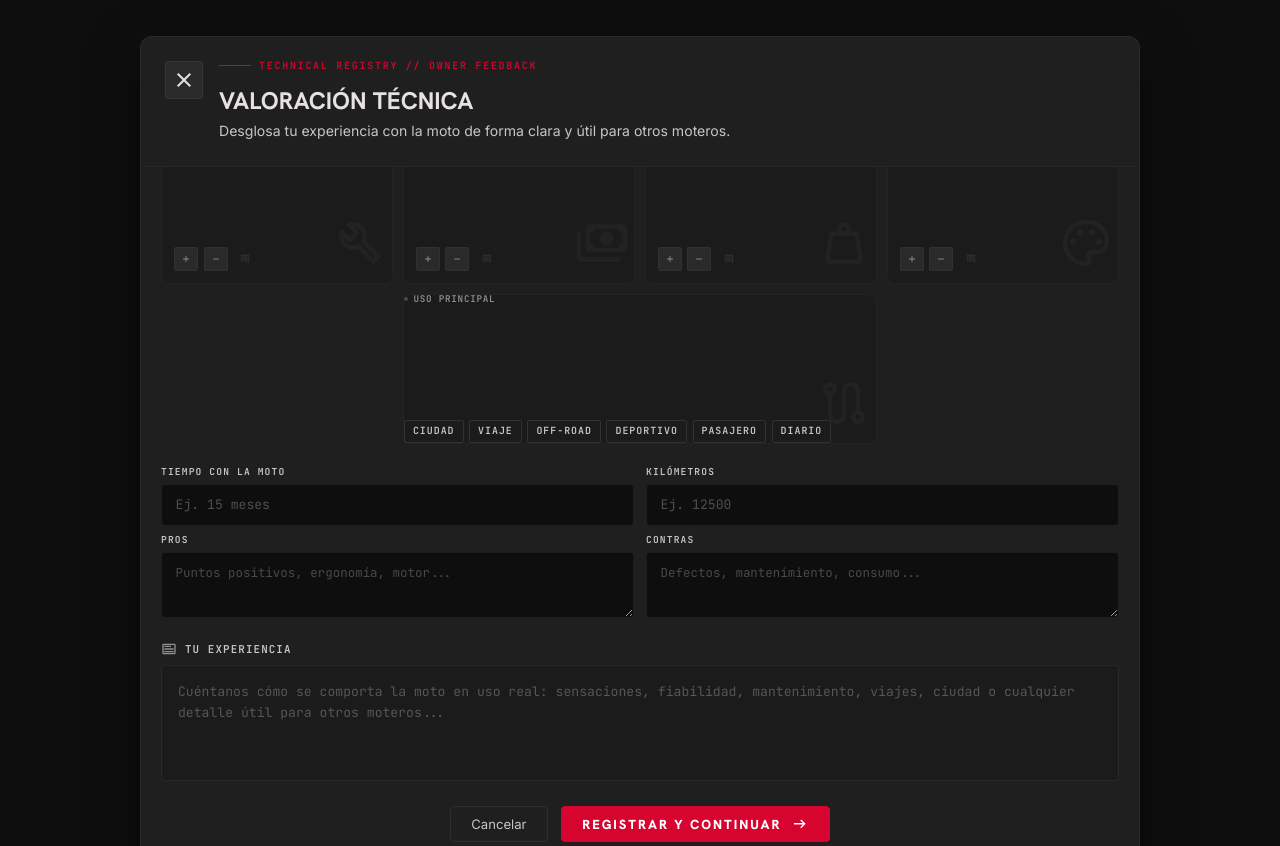
ReviewModal › valida rating obligatorio
(page scrolled)
Click the button "Registrar y continuar" at (695, 824), box [561,806,830,842]
(page scrolled)
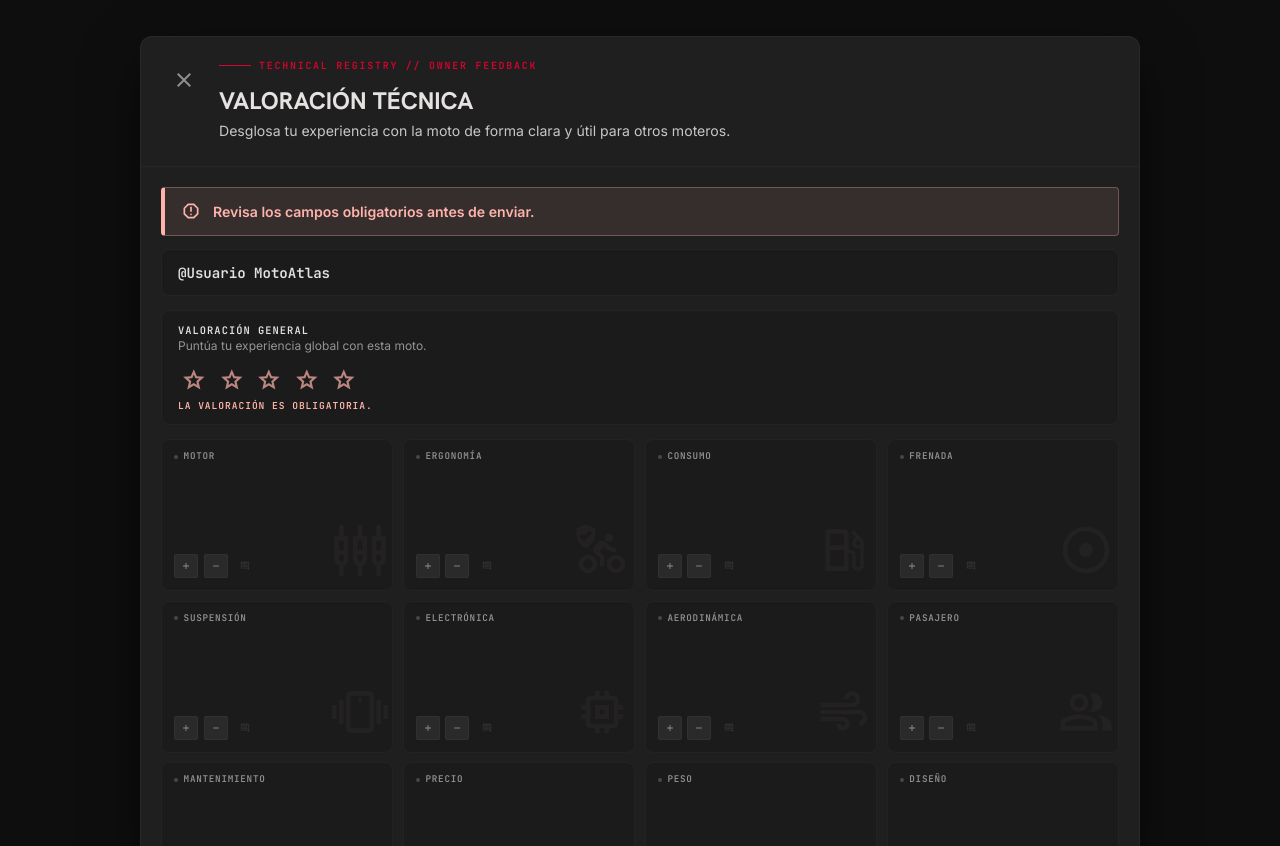
Check: the message reads "Revisa los campos obligatorios antes de enviar.", box [213,203,535,220]
Check: the text "La valoración es obligatoria." is shown, box [178,399,373,412]
